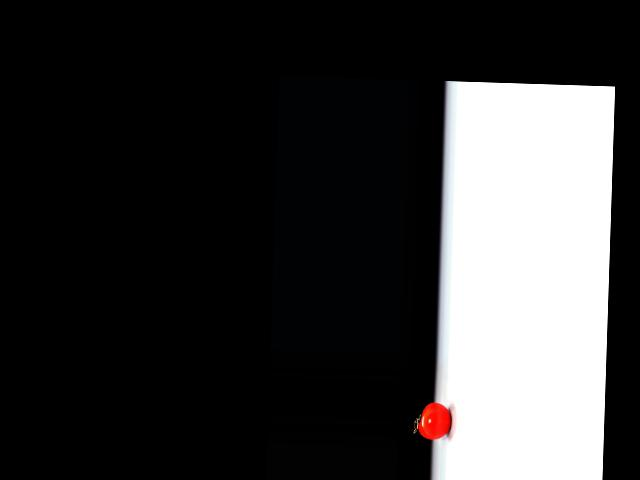tomato: (418, 401, 451, 440)
